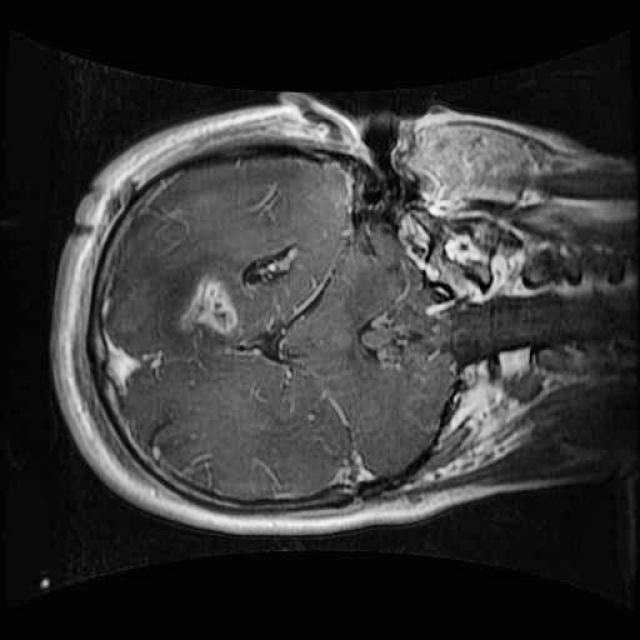Non-Tumor: (170, 264, 251, 348)
